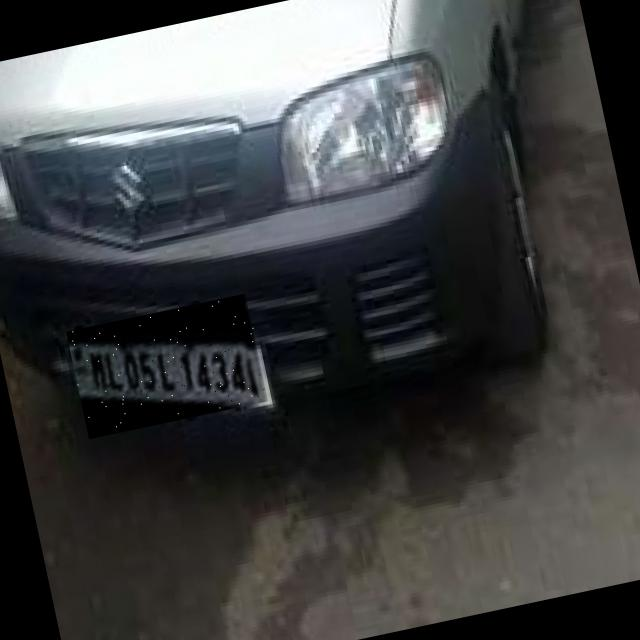Plate: (67, 294, 270, 440)
